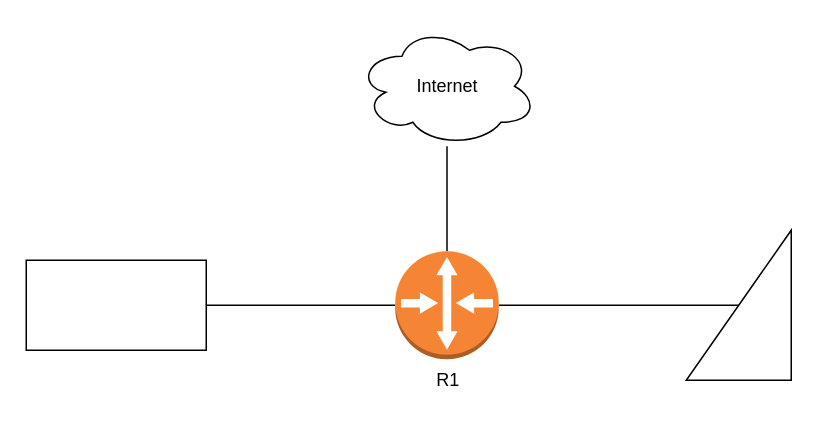
Image size: 818x438. Some labels were removed from this diagram. The centre of each missing label's shape, as x and y in pixels:
"Ubuntu-1" belongs at point (738, 304).
"Windows-3" belongs at point (115, 304).
